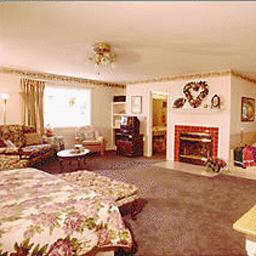Cama: (3, 166, 124, 254)
